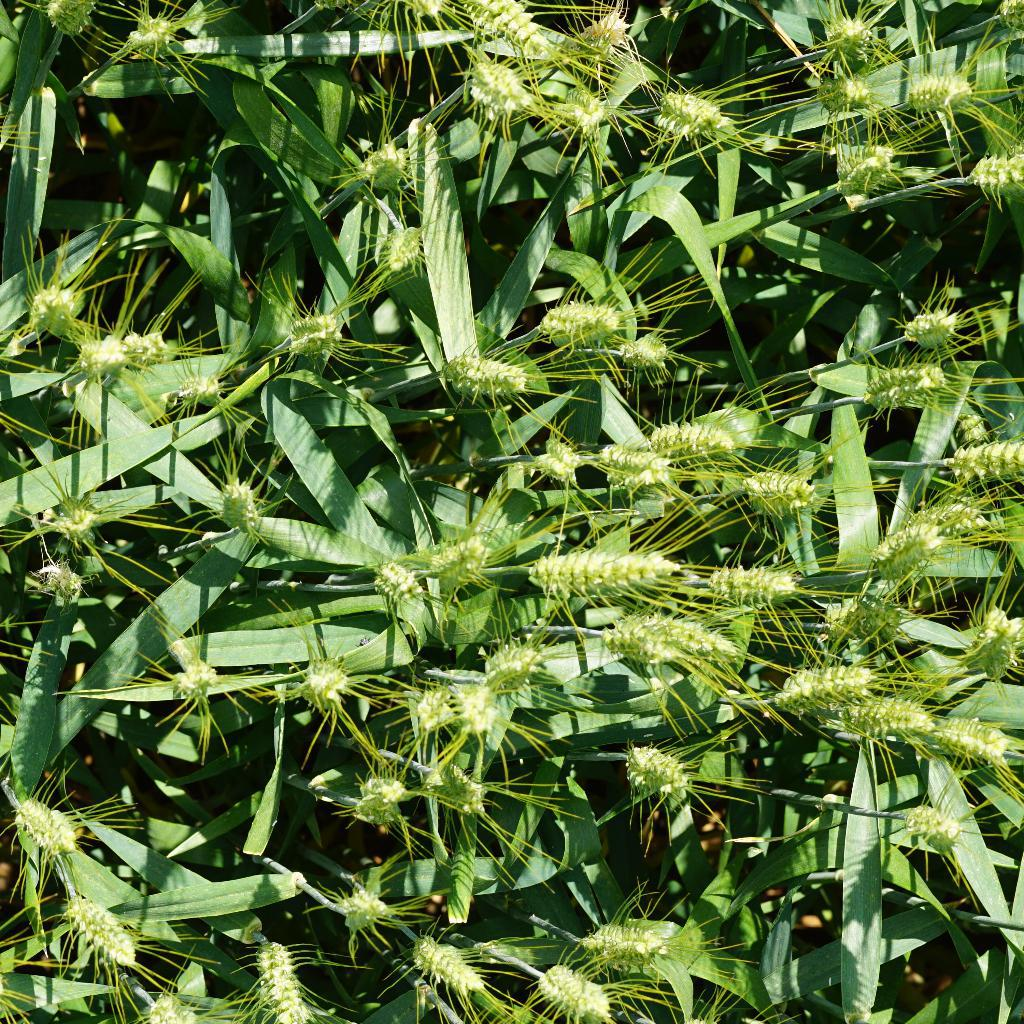0-0: (516, 541, 684, 595), (613, 608, 735, 681), (62, 881, 146, 974), (237, 929, 319, 1024), (533, 276, 626, 346), (0, 783, 86, 858), (656, 78, 740, 152), (927, 706, 1019, 773), (862, 512, 945, 586), (526, 955, 615, 1024), (456, 0, 556, 59), (459, 49, 544, 118), (901, 479, 989, 545), (699, 552, 808, 605), (583, 904, 669, 970), (830, 589, 914, 654), (444, 342, 538, 400), (645, 410, 739, 466), (781, 651, 871, 709), (859, 361, 956, 414), (610, 318, 690, 382), (733, 463, 817, 523), (411, 522, 485, 589), (624, 742, 699, 808), (415, 929, 486, 997), (279, 301, 363, 358), (840, 133, 907, 204), (164, 642, 230, 714), (959, 600, 1024, 673), (897, 793, 971, 855), (574, 8, 650, 67), (948, 426, 1024, 485), (23, 557, 96, 613), (440, 762, 507, 823), (296, 638, 352, 710), (442, 678, 507, 740), (882, 296, 959, 348), (17, 274, 83, 334), (863, 684, 930, 742), (359, 138, 428, 194), (121, 5, 189, 61), (823, 10, 886, 70), (357, 773, 421, 832), (213, 479, 273, 541), (965, 135, 1024, 197), (595, 447, 672, 494), (332, 883, 395, 940), (911, 66, 976, 119), (560, 81, 616, 139), (365, 553, 417, 613), (380, 220, 429, 283), (520, 436, 582, 485), (135, 978, 197, 1024), (488, 645, 548, 692), (172, 366, 236, 410), (45, 486, 98, 539), (814, 70, 879, 111), (71, 335, 129, 380), (408, 680, 456, 732), (43, 0, 105, 33), (131, 328, 169, 370)
